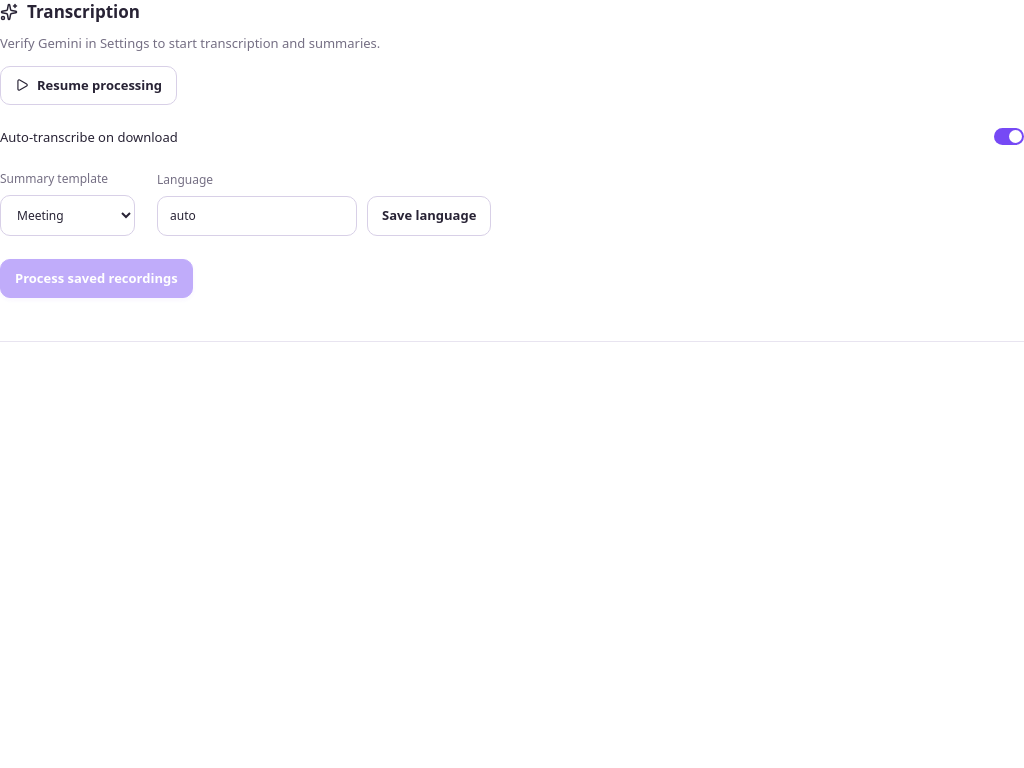
Test: AI provider setup › offers provider confirmation to resume processing directly from transcription settings
Click the button "Resume processing" at [88, 85], box top-left (0, 66), bottom-right (177, 105)
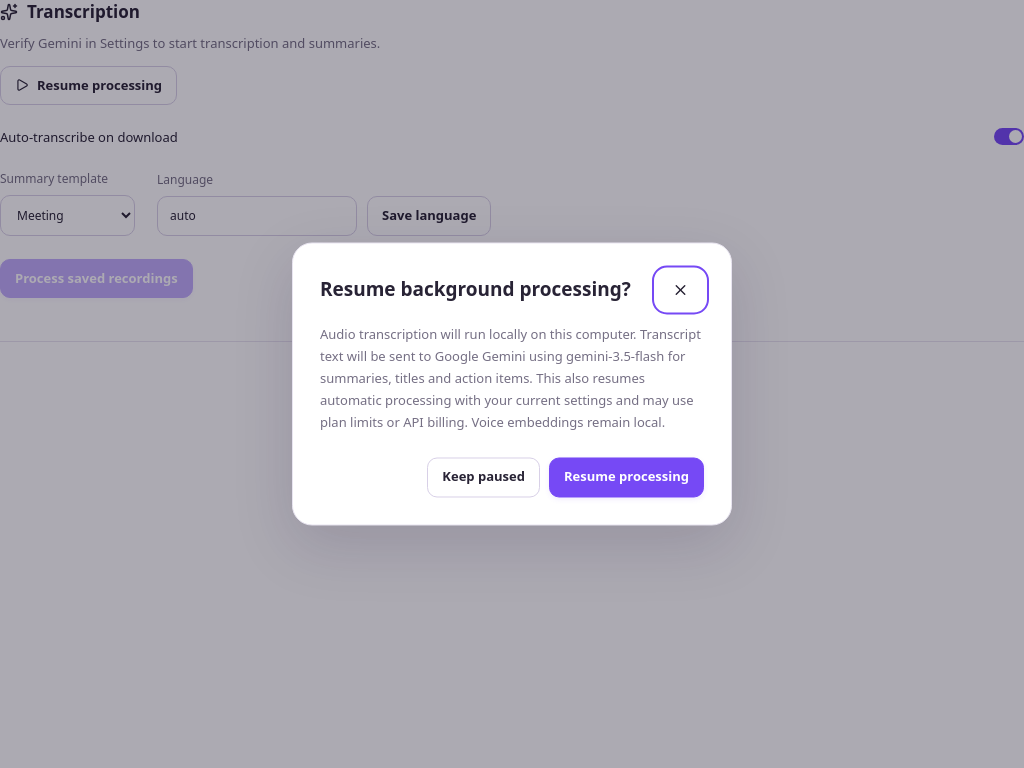
Click the button "Resume processing" at [626, 478], box top-left (549, 458), bottom-right (704, 498)
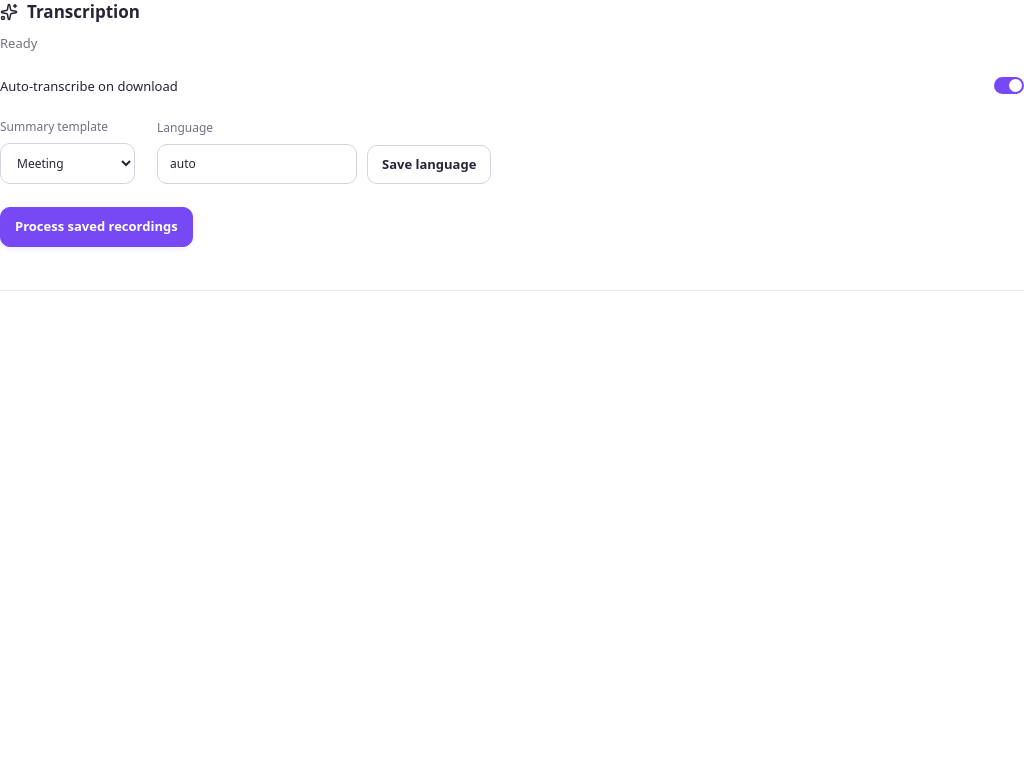
Result: the text "Ready" is shown at top-left (0, 34), bottom-right (37, 52)
Result: the dialog is gone
Result: the button "Resume processing" is gone
